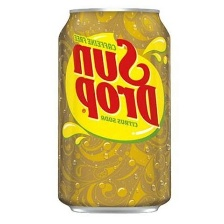can: (54, 7, 173, 215)
